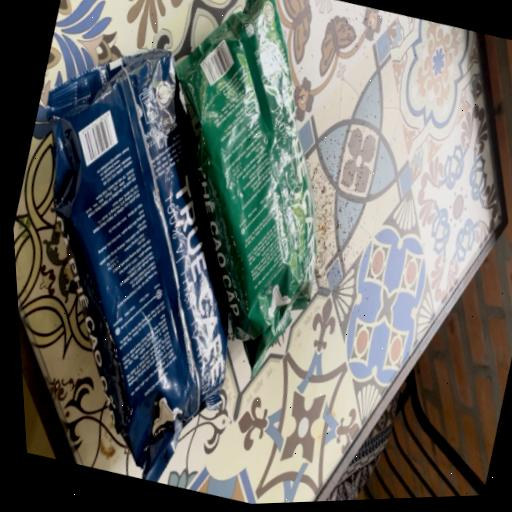cafe_hat: (44, 49, 226, 482)
cafe_xay: (175, 0, 315, 375)
